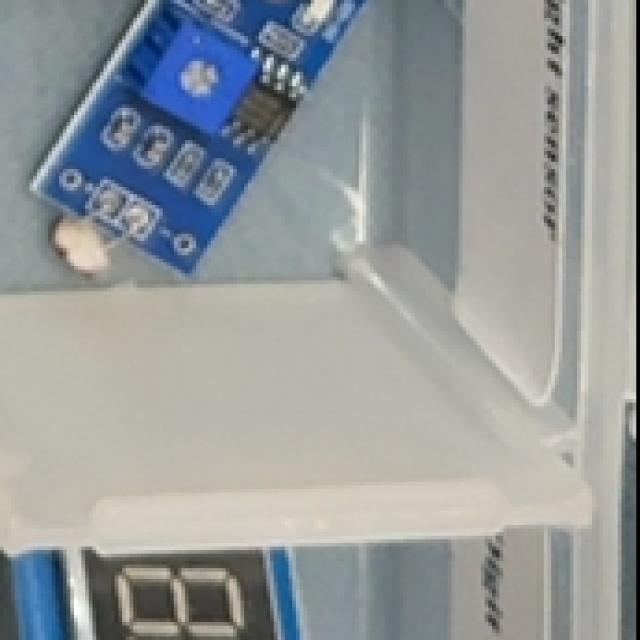Light Sensor: (35, 0, 368, 291)
